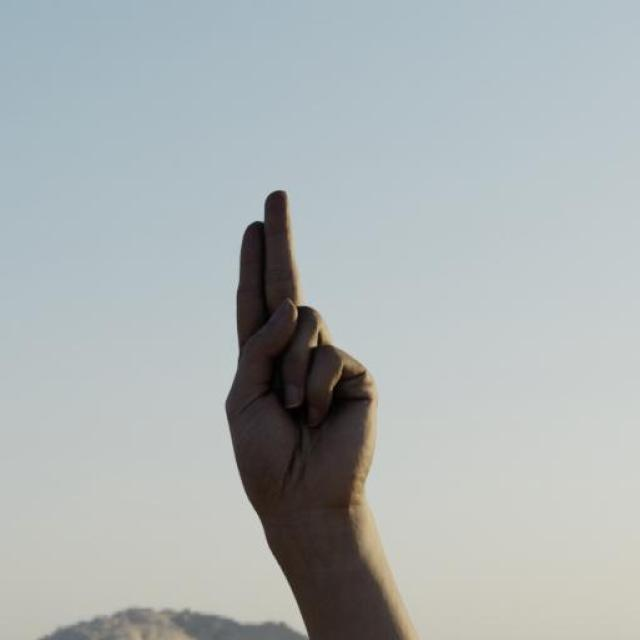U: (217, 182, 381, 526)
